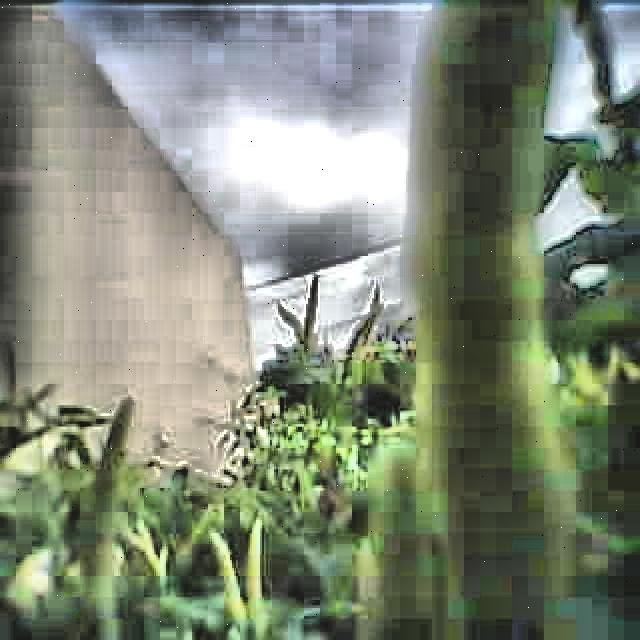Cabai: (414, 2, 569, 618), (65, 394, 146, 597), (279, 273, 340, 357), (210, 528, 256, 638)
